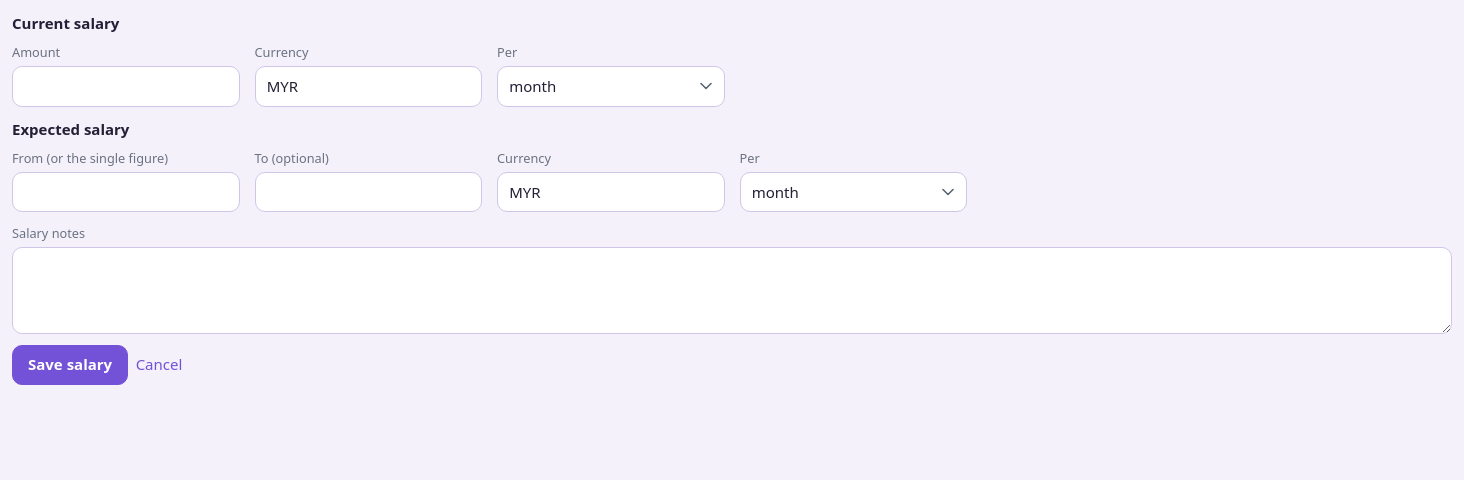
Test case: salary form › refuses a decimal comma instead of reading 8500,50 as 850050
The image size is (1464, 480).
Type "8500,50" into the field labelled "Amount" at point(126, 86), box [12, 66, 240, 107]
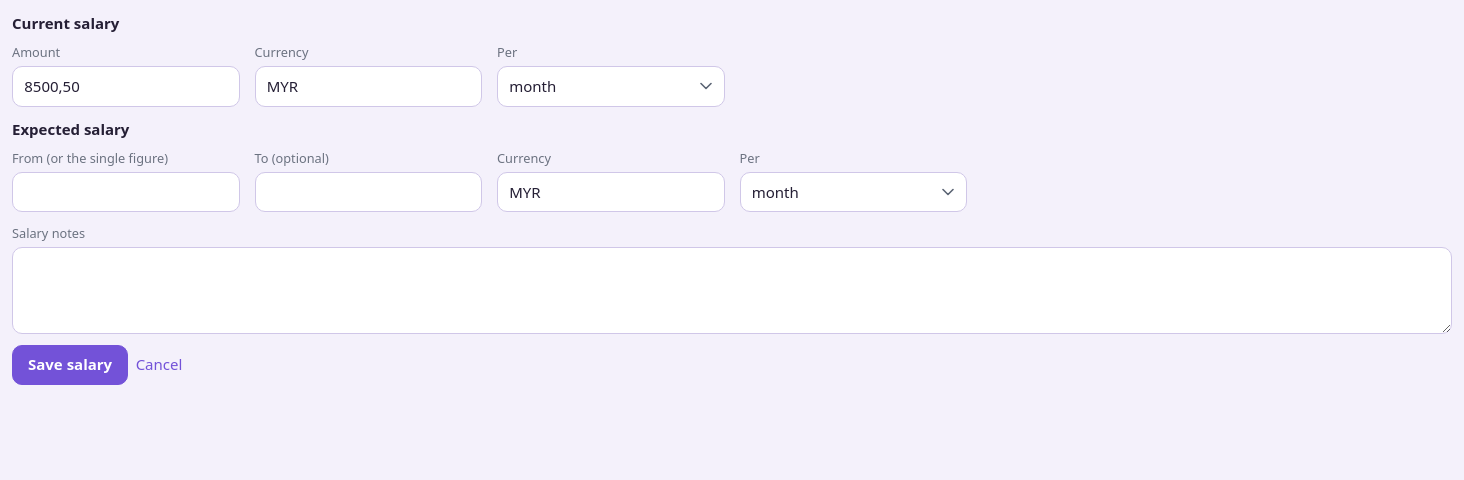
Click the button "Save salary" at point(70, 365), box [12, 345, 128, 385]
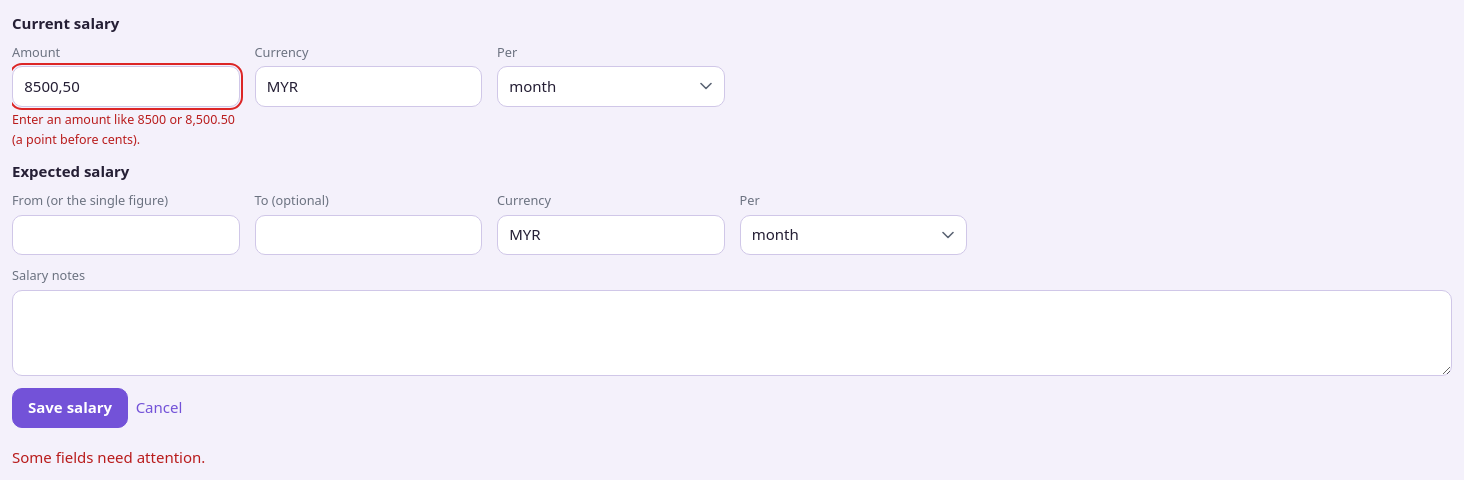
Result: the text with class "error" shows "a point before cents" at [12, 111, 235, 148]
